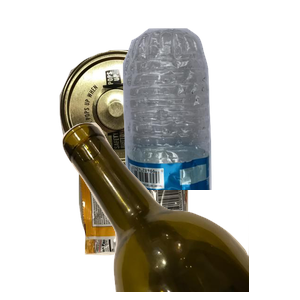glass: (60, 120, 300, 300)
metal: (57, 47, 227, 211)
plastic: (111, 26, 300, 206)
trash: (76, 159, 259, 300)
